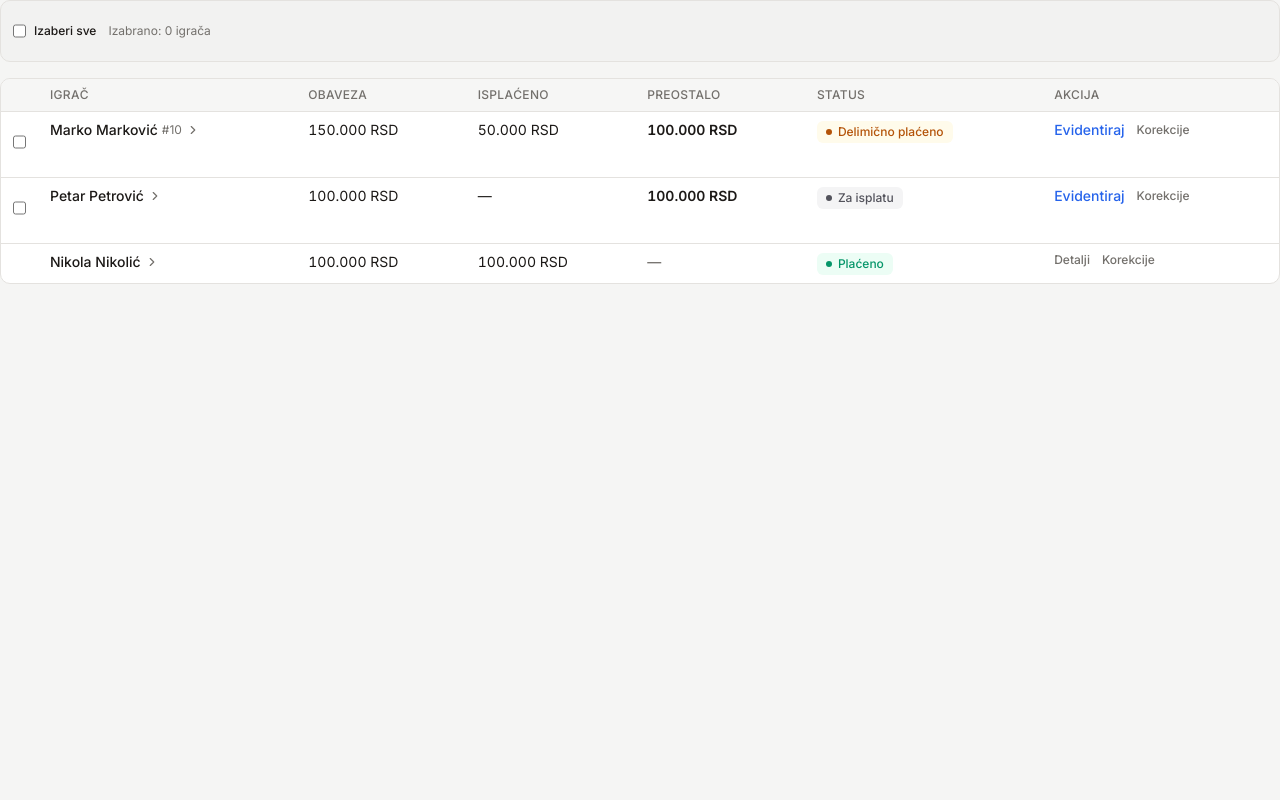
Test: MonthPayments table › opens the player detail drawer from the name
Click the button with aria-label "Detalji za Marko Marković" at coordinates (125, 130), box [50,120,200,140]
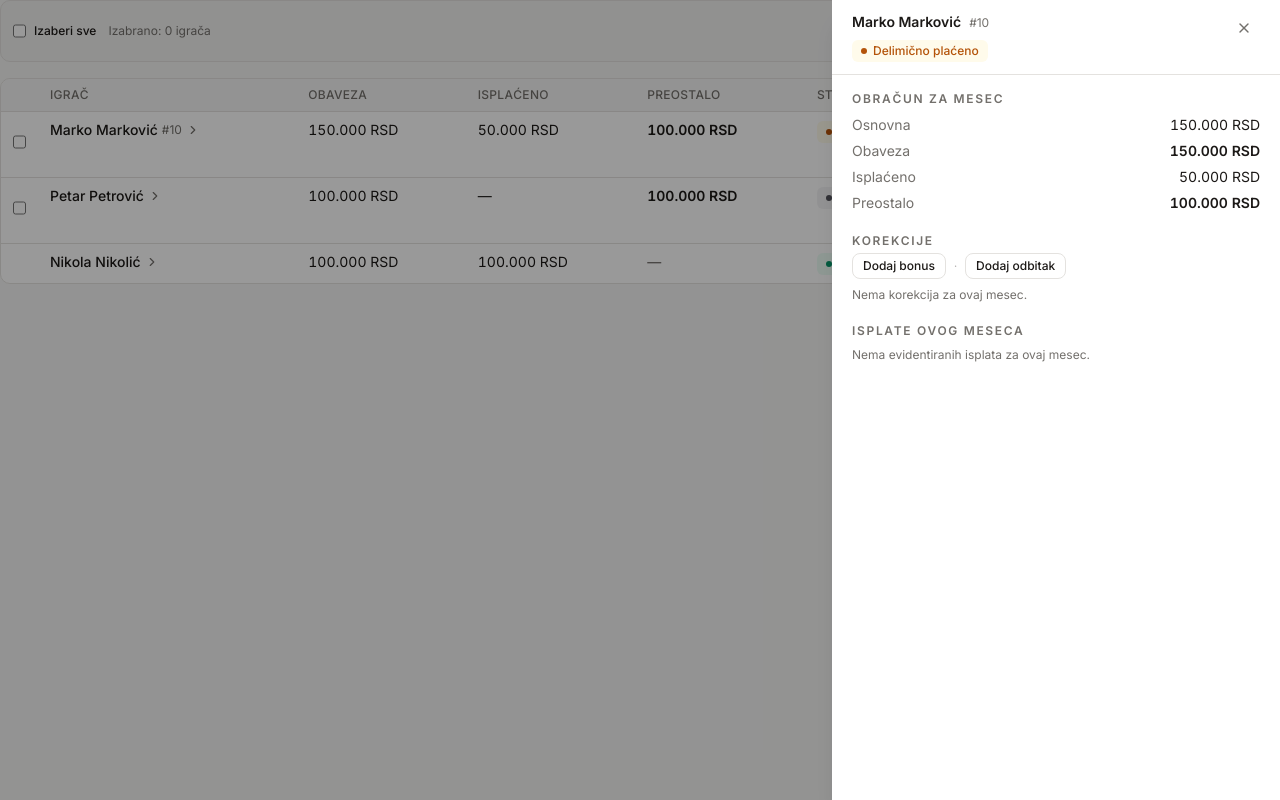
expect the heading "Obračun za mesec" is shown: met, box [852,91,1004,106]
